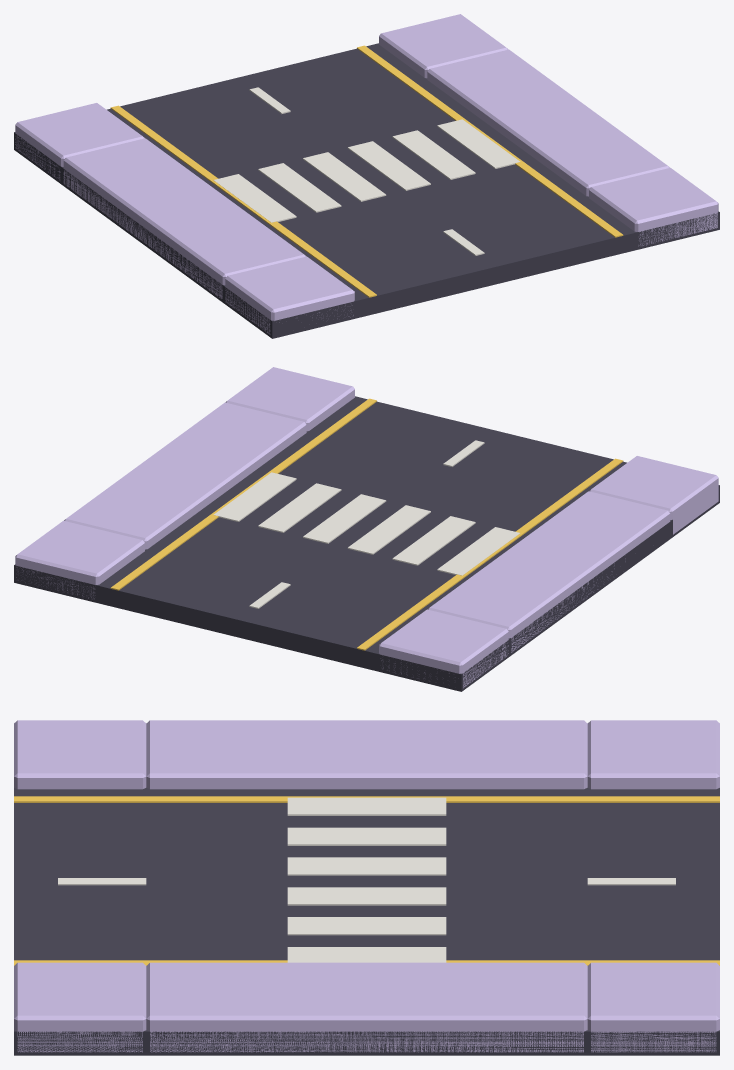
Rendered from road_crosswalk.glb.
3 renders of one model, top to bottom at view 1: azimuth 30°, elevation 25°; view 2: azimuth 150°, elevation 25°; view 3: azimuth 270°, elevation 25°, orthographic. The views are drawn at different scales.
Parts seen in each view (by area): view 1: road_crosswalk; view 2: road_crosswalk; view 3: road_crosswalk.
Part boxes in pixels (box(x1,y1,x2,y2)): road_crosswalk: box(14, 14, 719, 338); road_crosswalk: box(14, 367, 719, 691); road_crosswalk: box(14, 720, 719, 1055).
Size of the model in its own units: 8 by 0.48 by 8.
